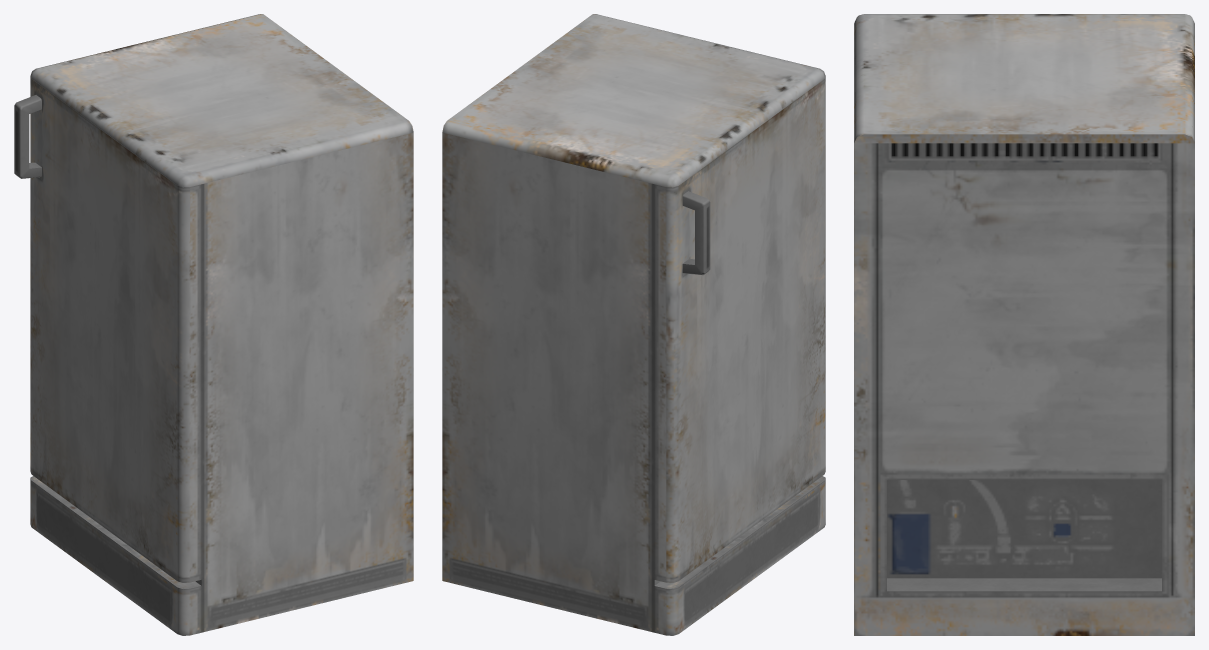
The model's file is CP_Fridge_02.fbx.
3 renders of one model, left to right at view 1: azimuth 30°, elevation 25°; view 2: azimuth 150°, elevation 25°; view 3: azimuth 270°, elevation 25°, orthographic. The views are drawn at different scales.
Visible parts, largest first — view 1: CP_Fridge_02_LOD0; view 2: CP_Fridge_02_LOD0; view 3: CP_Fridge_02_LOD0.
Boxes of the visible parts, x1,y1,x2,y2 form: CP_Fridge_02_LOD0: (14,14,413,635); CP_Fridge_02_LOD0: (442,14,825,635); CP_Fridge_02_LOD0: (854,14,1194,635).
Size of what is drawn, in the model's own units: 73.15 by 126 by 77.5.
